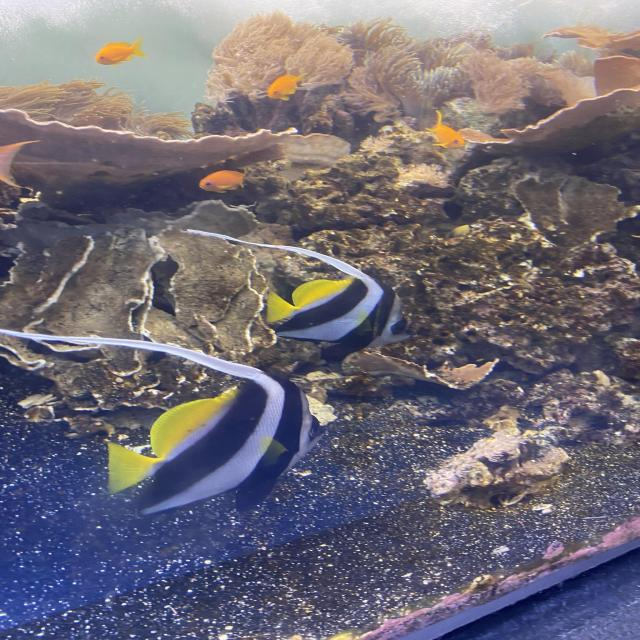fish: (59, 335, 320, 514), (255, 239, 420, 356), (194, 166, 246, 196), (88, 41, 145, 66), (429, 119, 468, 150), (258, 74, 299, 102)
